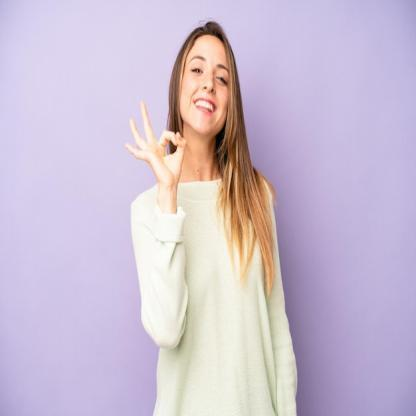ok: (122, 96, 190, 193)
